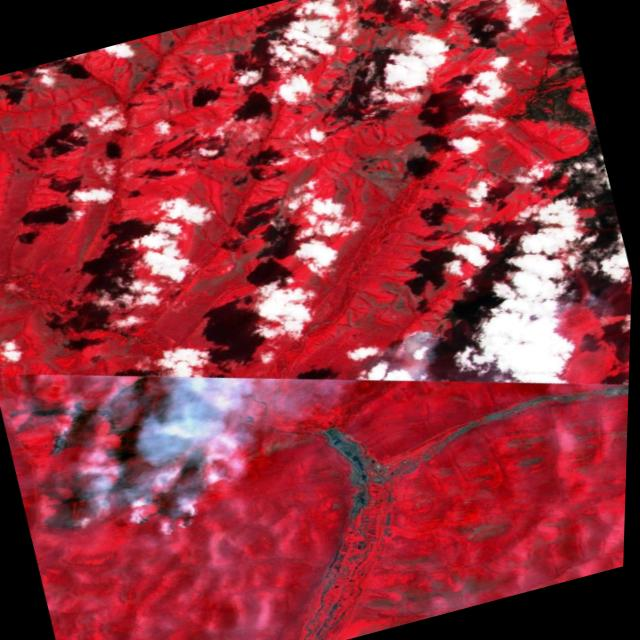fire: (71, 450, 252, 560), (35, 422, 98, 462)
